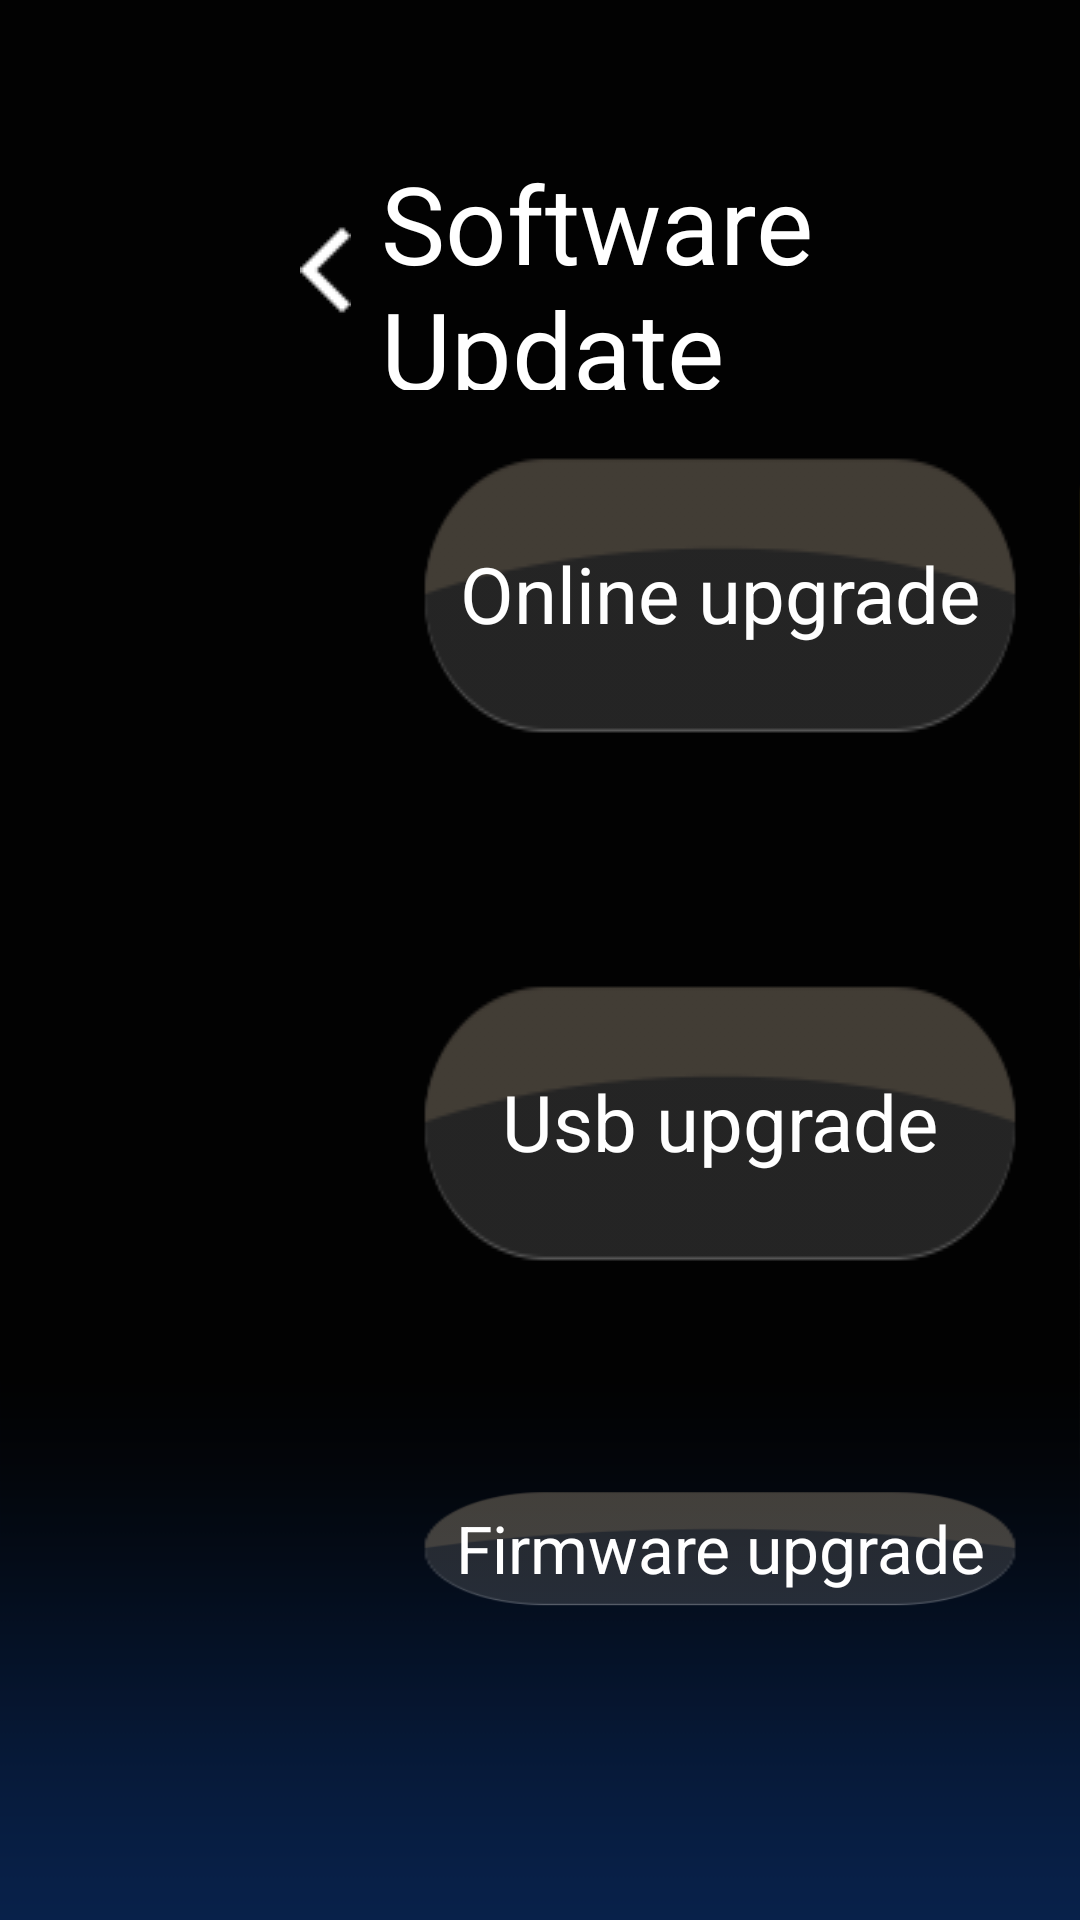

Locate icon controls on the screen. Image size 1080px×1920px, boxes as (x1, y1, x2, y2).
arrow left: (300, 227, 351, 313)
